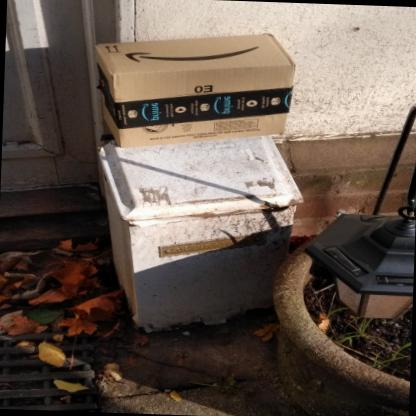box: (94, 31, 297, 149)
